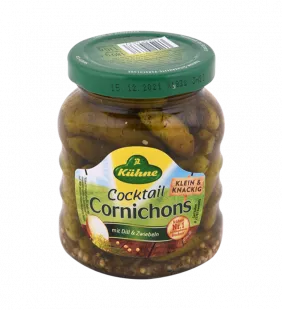KÜHNE: (51, 20, 236, 284)
